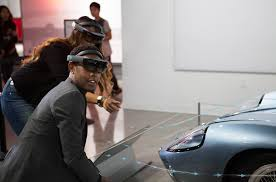hololens: (64, 52, 109, 75), (70, 17, 105, 44)
